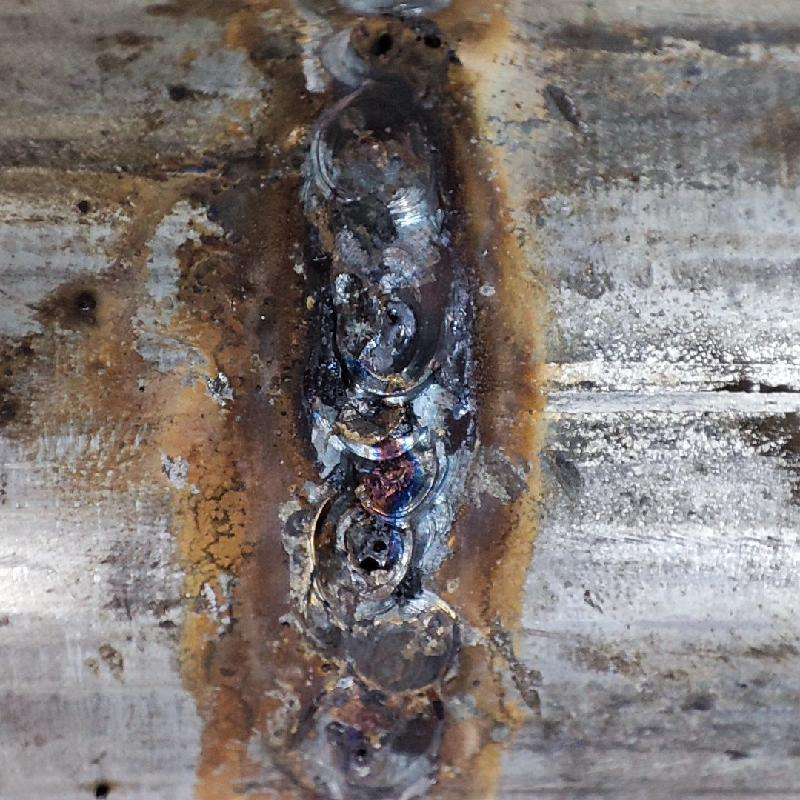Surface_pores: (359, 10, 451, 72), (352, 520, 413, 585)
crater: (302, 2, 475, 787)
